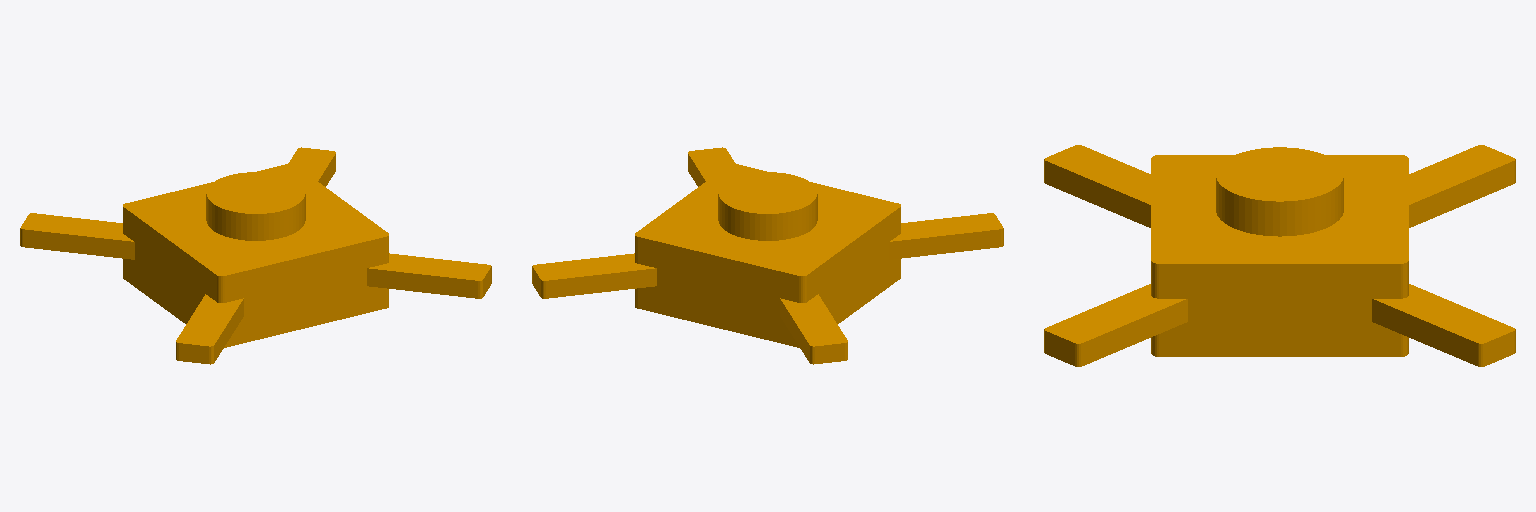
The robot description file, URDF, robot "Swarm":
<?xml version="1.0" ?>
<robot name="Swarm">

<link name="drone">
  <inertial>
    <origin xyz="0.0 0.0 0.02171180059598859" rpy="0 0 0"/>
    <mass value="3.7142431101658597"/>
    <inertia ixx="0.004782" iyy="0.004782" izz="0.008385" ixy="-0.0" iyz="0.0" ixz="0.0"/>
  </inertial>
  <visual>
    <origin xyz="0 0 0" rpy="0 0 0"/>
    <geometry>
      <mesh filename="meshes/drone.stl" scale="0.001 0.001 0.001"/>
    </geometry>
    <material name="silver"/>
  </visual>
  <collision>
    <origin xyz="0 0 0" rpy="0 0 0"/>
    <geometry>
      <mesh filename="meshes/drone.stl" scale="0.001 0.001 0.001"/>
    </geometry>
  </collision>
</link>

</robot>

--- Render facts (derived) ---
3 views of the same robot in one strip: view 1: azimuth 30°, elevation 25°; view 2: azimuth 150°, elevation 25°; view 3: azimuth 270°, elevation 25° (orthographic).
Model Swarm with 1 links and 0 joints (none), rooted at drone, posed every joint at zero.
Visible links, largest first — view 1: drone; view 2: drone; view 3: drone.
Boxes of the visible links, <box> form: drone: <box>20,147,491,364</box>; drone: <box>532,147,1003,364</box>; drone: <box>1044,145,1515,366</box>.
Bounding box of the posed robot: 0.1832 × 0.1832 × 0.055 m (x, y, z).
1 mesh visuals loaded from 1 distinct referenced files (1 binary STL).